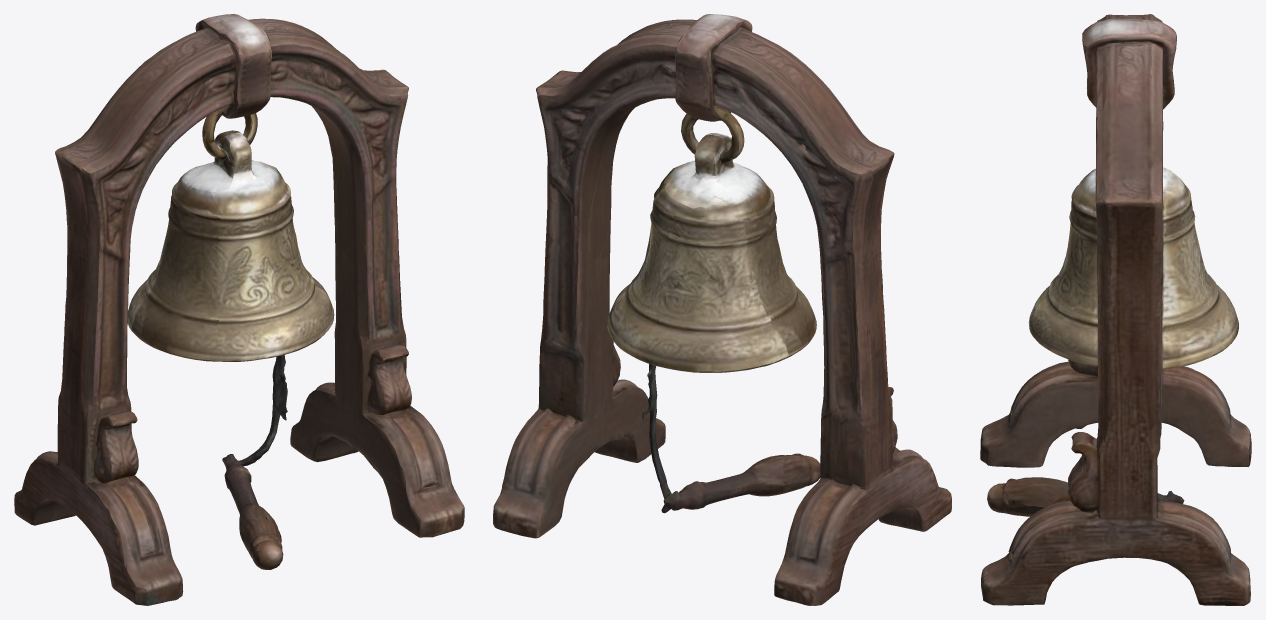
The model's file is bell.glb.
The picture shows the model from 3 angles, left to right: view 1: azimuth 30°, elevation 25°; view 2: azimuth 150°, elevation 25°; view 3: azimuth 270°, elevation 25°; orthographic projection.
Parts seen in each view (by area): view 1: geometry_0; view 2: geometry_0; view 3: geometry_0.
Boxes of the visible parts, x1,y1,x2,y2 form: geometry_0: (14, 14, 464, 605); geometry_0: (493, 14, 951, 605); geometry_0: (980, 14, 1251, 605).
Bounding box in the file's own units: 0.2453 × 0.35 × 0.1709.
1 material, 1 textured.
